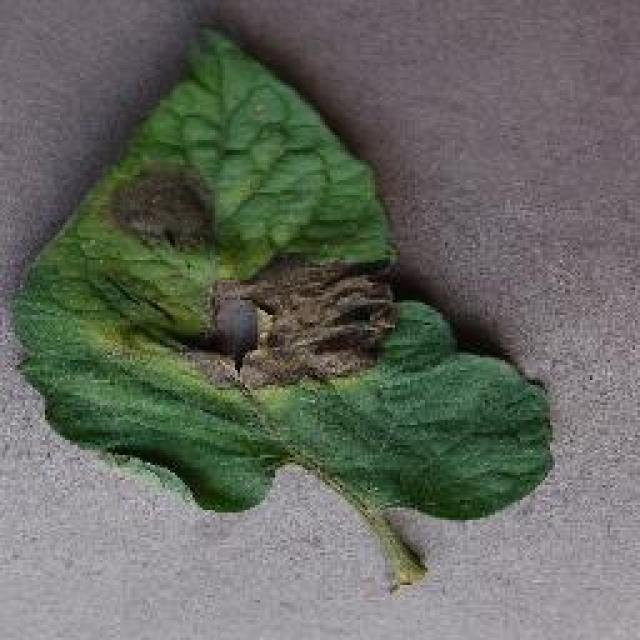Tomato_Late_Blight: (89, 162, 401, 388)
